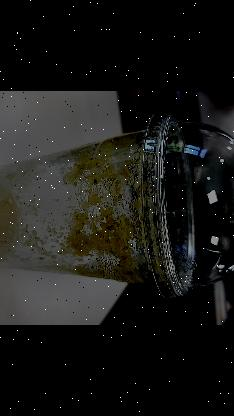Others: (0, 112, 234, 300), (141, 111, 234, 300)
